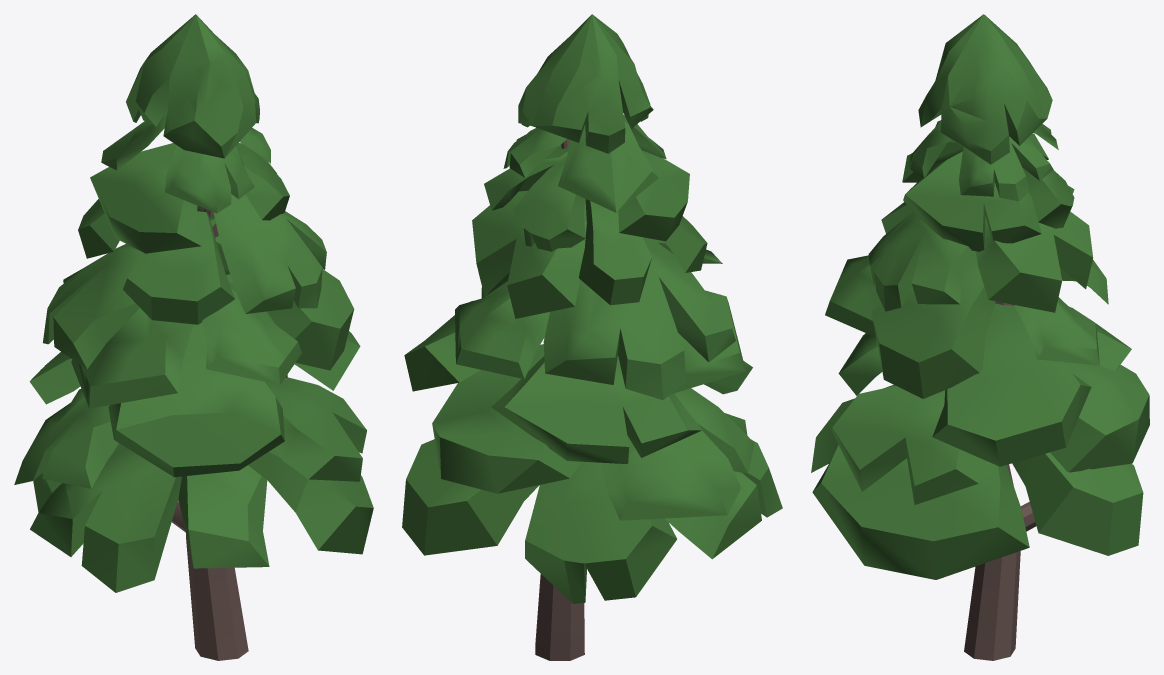
Rendered from ever3.fbx.
The picture shows the model from 3 angles, left to right: view 1: azimuth 30°, elevation 25°; view 2: azimuth 150°, elevation 25°; view 3: azimuth 270°, elevation 25°; orthographic projection. The views are drawn at different scales.
Visible parts, largest first — view 1: Canopy.001, Trunk.002; view 2: Canopy.001, Trunk.002; view 3: Canopy.001, Trunk.002.
Part boxes in pixels (bbox=[...]): Canopy.001: bbox=[14, 14, 373, 592]; Trunk.002: bbox=[171, 206, 287, 660]; Canopy.001: bbox=[402, 14, 782, 603]; Trunk.002: bbox=[535, 139, 584, 660]; Canopy.001: bbox=[811, 14, 1149, 579]; Trunk.002: bbox=[964, 301, 1036, 660].
Size of the model in its own units: 3.2 by 6.15 by 3.04.
